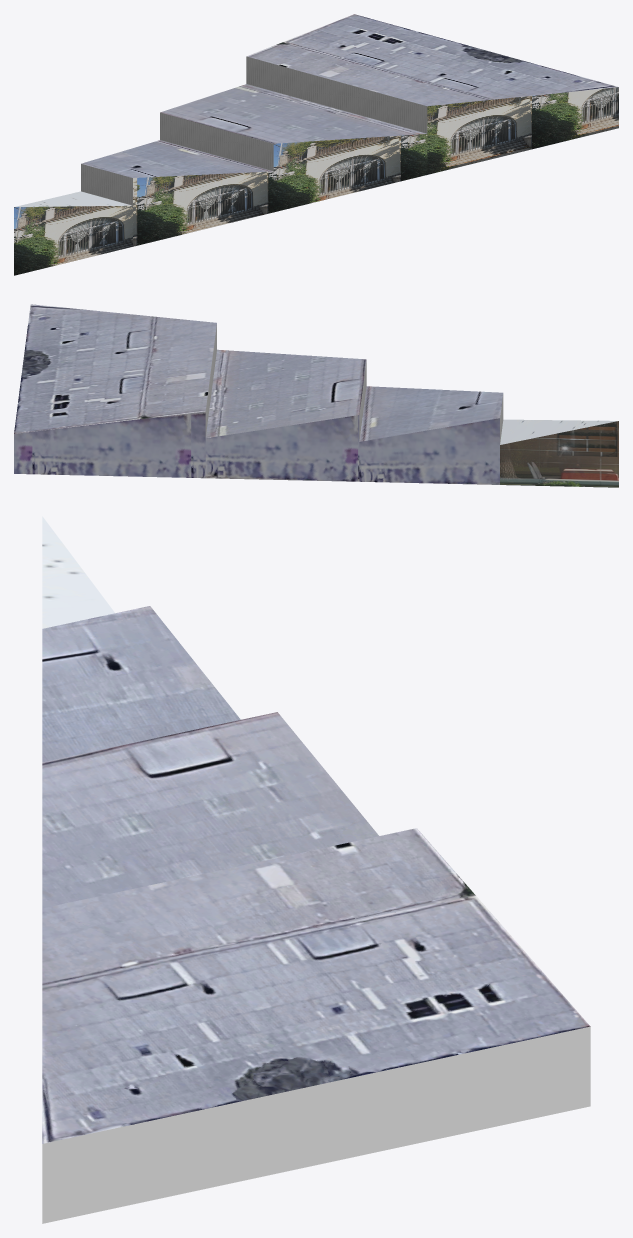
File: Lecu_triangular.gltf
3 renders of one model, top to bottom at view 1: azimuth 30°, elevation 25°; view 2: azimuth 150°, elevation 25°; view 3: azimuth 270°, elevation 25°, orthographic. The views are drawn at different scales.
Visible parts, largest first — view 1: extralecu2.001; view 2: extralecu2.001; view 3: extralecu2.001.
Boxes of the visible parts, left/top/right/bottom form: extralecu2.001: left=14, top=14, right=618, bottom=275; extralecu2.001: left=14, top=304, right=618, bottom=487; extralecu2.001: left=42, top=516, right=590, bottom=1223.
Size of the model in its own units: 86.63 by 9.4 by 34.95.
